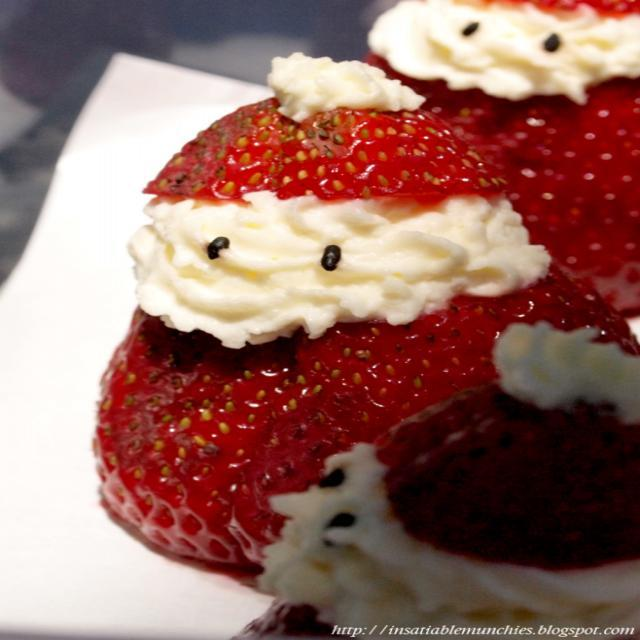Strawberry: (107, 268, 517, 544), (361, 63, 639, 323), (129, 71, 533, 198), (422, 0, 639, 15)
